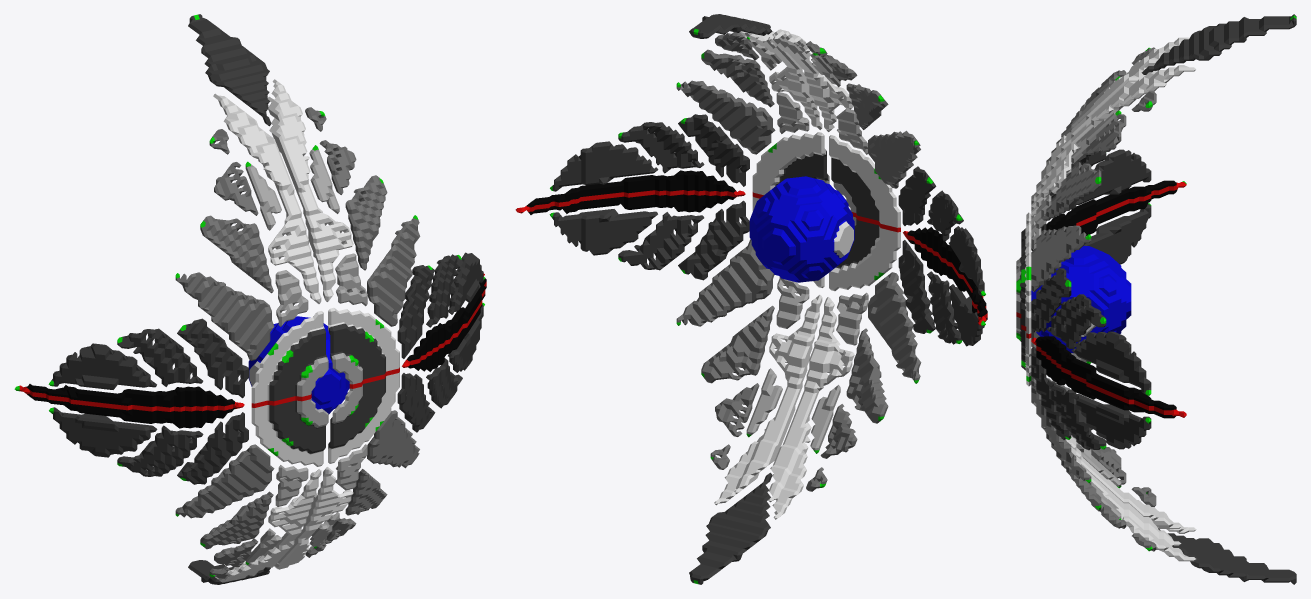
Rendered from ship_fancy_0.fbx.
The picture shows the model from 3 angles, left to right: view 1: azimuth 30°, elevation 25°; view 2: azimuth 150°, elevation 25°; view 3: azimuth 270°, elevation 25°; orthographic projection. The views are drawn at different scales.
Parts seen in each view (by area): view 1: ship_fancy_0; view 2: ship_fancy_0; view 3: ship_fancy_0.
Boxes of the visible parts, <box> form: ship_fancy_0: <box>14,14,486,584</box>; ship_fancy_0: <box>515,14,987,584</box>; ship_fancy_0: <box>1016,14,1296,584</box>.
Bounding box in the file's own units: 11100 × 12500 × 5600.
